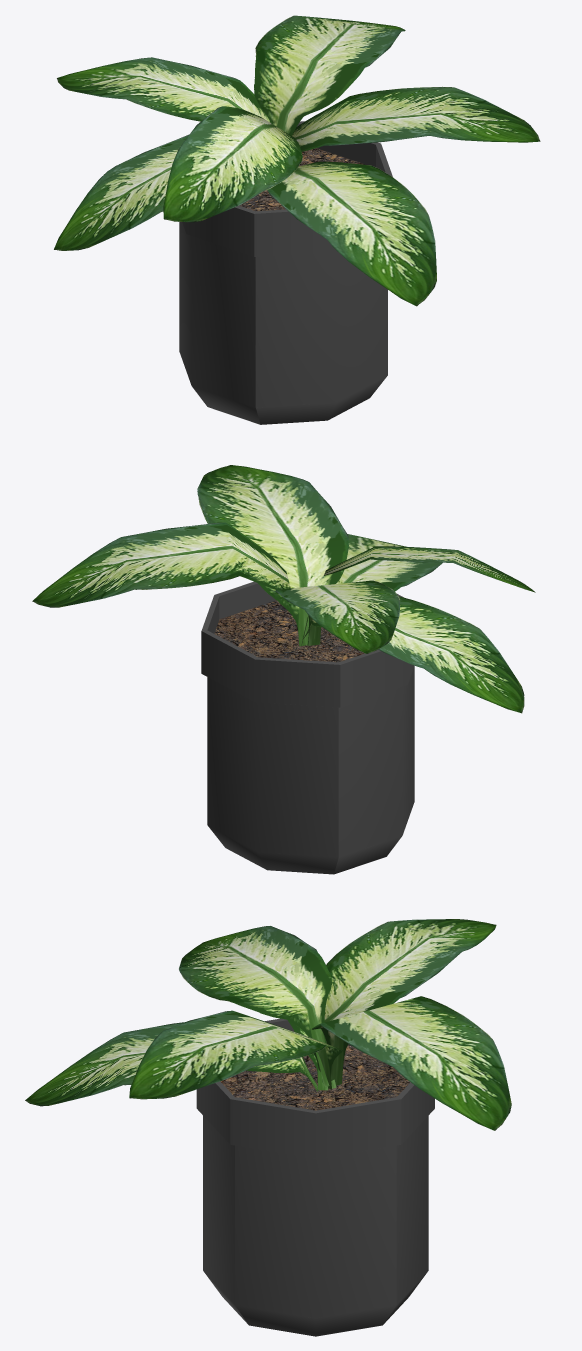
The model's file is TreePot_01.fbx.
The picture shows the model from 3 angles, top to bottom: view 1: azimuth 30°, elevation 25°; view 2: azimuth 150°, elevation 25°; view 3: azimuth 270°, elevation 25°; orthographic projection. The views are drawn at different scales.
Parts seen in each view (by area): view 1: Pot, leaf5, leaf, leaf3, leaf4, leaf2, leaf1; view 2: Pot, leaf4, leaf3, leaf1, leaf2, leaf5, leaf; view 3: Pot, leaf3, leaf, leaf4, leaf2, leaf5.
Boxes of the visible parts, <box> form: Pot: <box>179,121,392,424</box>; leaf5: <box>267,161,436,306</box>; leaf: <box>163,106,302,222</box>; leaf3: <box>254,15,405,135</box>; leaf4: <box>292,86,540,151</box>; leaf2: <box>57,57,273,124</box>; leaf1: <box>54,134,189,250</box>; Pot: <box>201,581,414,874</box>; leaf4: <box>197,465,348,646</box>; leaf3: <box>32,522,302,637</box>; leaf1: <box>304,596,524,713</box>; leaf2: <box>275,580,399,653</box>; leaf5: <box>336,534,442,591</box>; leaf: <box>301,546,535,648</box>; Pot: <box>196,1018,434,1336</box>; leaf3: <box>312,996,511,1130</box>; leaf: <box>179,926,336,1088</box>; leaf4: <box>129,1010,342,1099</box>; leaf2: <box>317,919,496,1082</box>; leaf5: <box>25,1022,317,1106</box>.
Bounding box in the file's own units: 1.32 × 0.8052 × 1.28.
